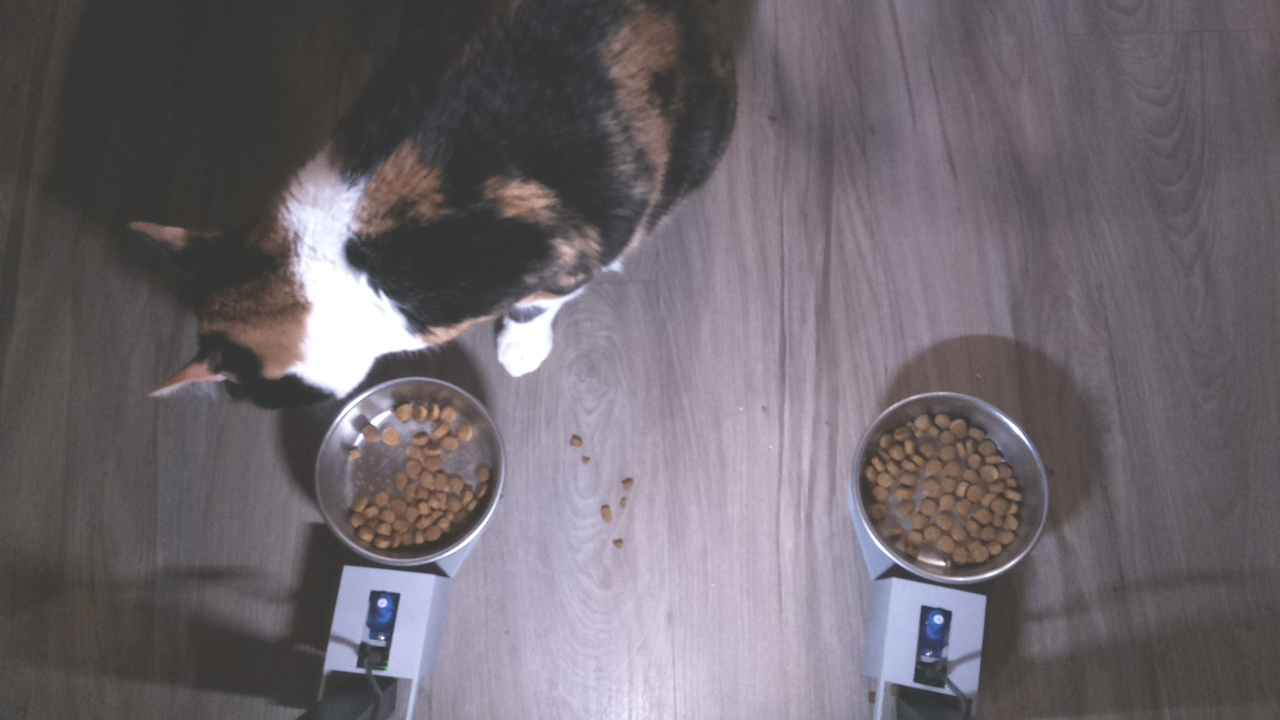bella: (115, 203, 394, 404)
open_bowl: (850, 387, 1054, 590), (314, 372, 505, 570)
